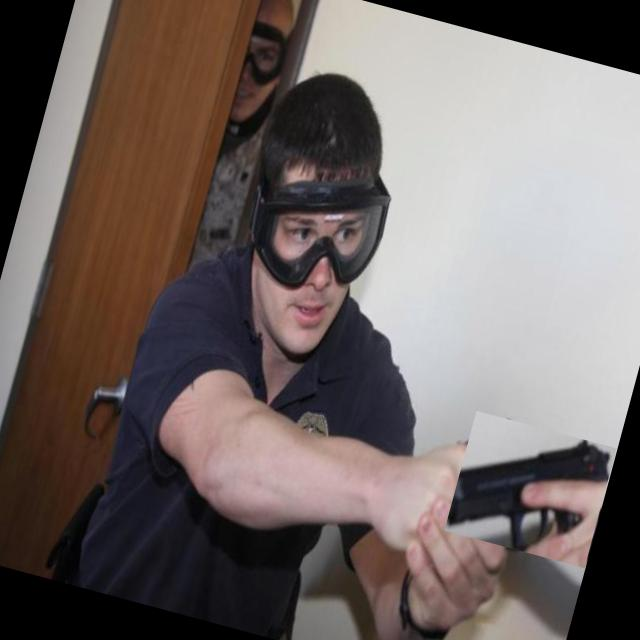Gun: (447, 440, 608, 551)
